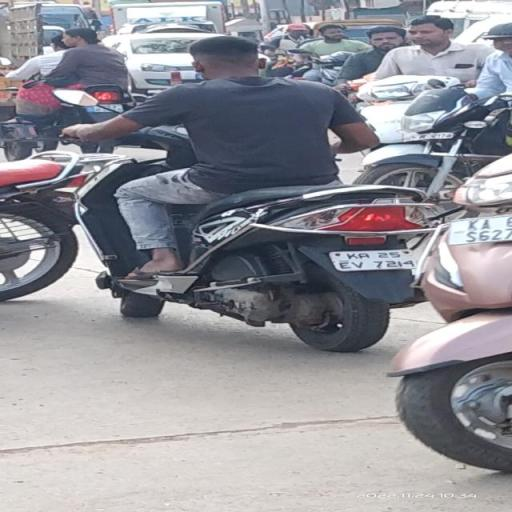bike: (55, 32, 437, 356)
numberplate: (334, 249, 420, 273)
withouthelmet: (190, 38, 262, 78)
